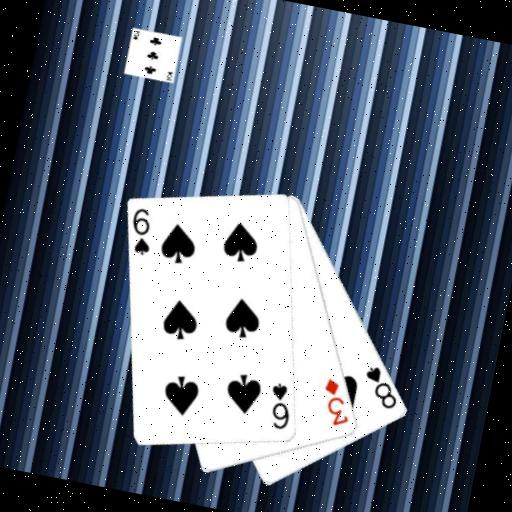3D: (315, 375, 359, 431)
6S: (123, 204, 159, 259), (262, 379, 298, 433)
8S: (357, 361, 405, 412)
